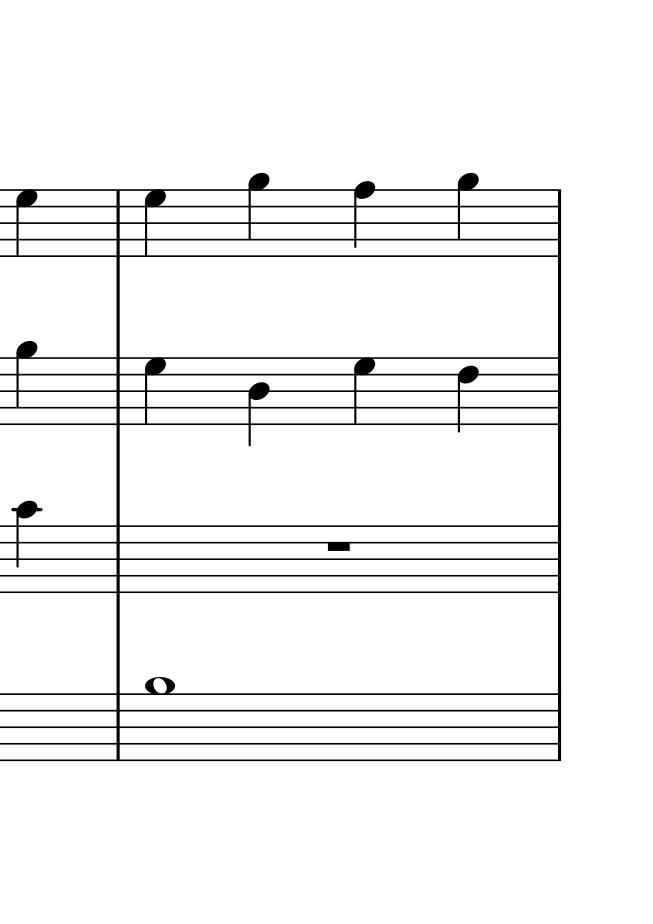1_9: (142, 674, 175, 765)
4_10: (13, 501, 40, 596)
4_4: (245, 355, 272, 446)
4_6: (457, 354, 483, 433)
4_7: (141, 356, 170, 425), (351, 355, 378, 428), (142, 189, 169, 258), (15, 190, 40, 259)
4_8: (351, 180, 382, 260)
4_9: (247, 172, 271, 258), (14, 339, 38, 425), (456, 172, 480, 257)
Rests1: (324, 538, 354, 555)
Single_barline: (544, 692, 567, 760), (108, 524, 130, 591), (109, 189, 130, 256), (547, 524, 567, 594), (109, 693, 129, 762), (547, 356, 566, 424), (109, 357, 127, 425), (549, 189, 566, 257)
